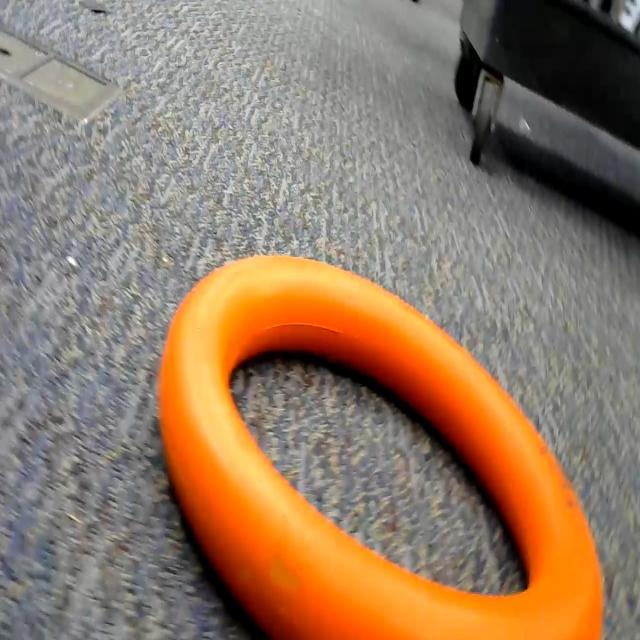note: (150, 234, 612, 640)
